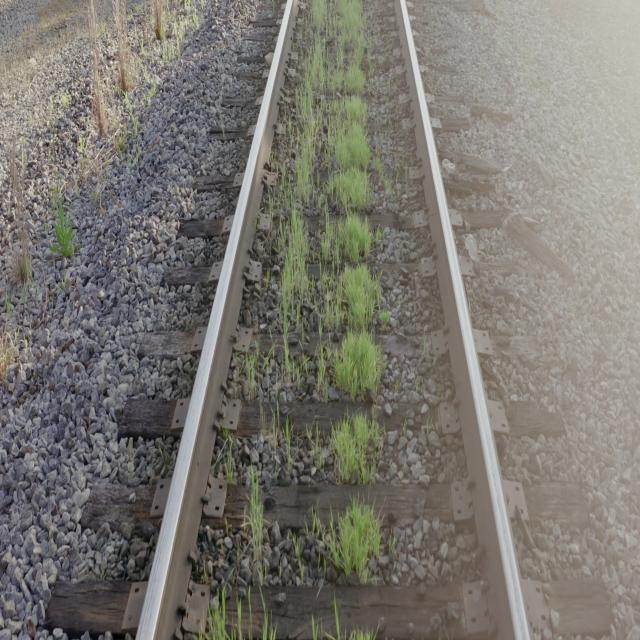Plant: (279, 0, 382, 398), (329, 498, 381, 582), (329, 411, 381, 484), (204, 589, 241, 640), (261, 596, 278, 640), (331, 604, 348, 638), (250, 482, 260, 536), (282, 347, 299, 376), (350, 629, 370, 638)
